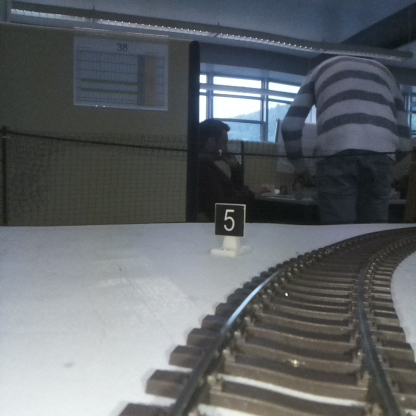black-stop-5: (215, 204, 244, 253)
